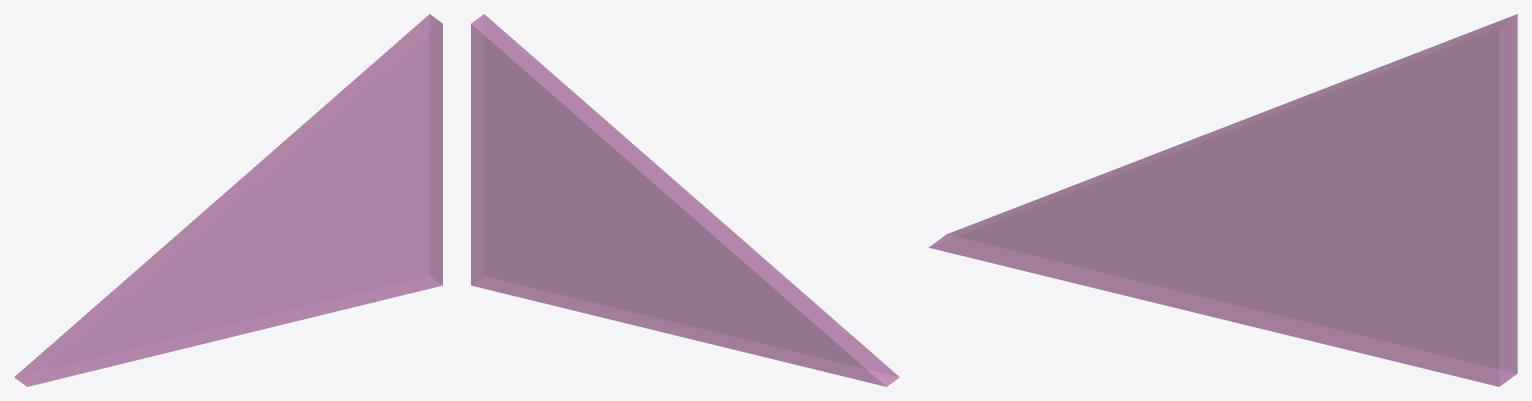
File: SM_Bld_Base_Stairwell_Wall_01_Collision.fbx
3 renders of one model, left to right at view 1: azimuth 30°, elevation 25°; view 2: azimuth 150°, elevation 25°; view 3: azimuth 330°, elevation 25°, orthographic. The views are drawn at different scales.
Parts seen in each view (by area): view 1: SM_Bld_Base_Stairwell_Wall_01_Collision; view 2: SM_Bld_Base_Stairwell_Wall_01_Collision; view 3: SM_Bld_Base_Stairwell_Wall_01_Collision.
Part boxes in pixels (x1=…): SM_Bld_Base_Stairwell_Wall_01_Collision: x1=14, y1=14, x2=442, y2=386; SM_Bld_Base_Stairwell_Wall_01_Collision: x1=471, y1=14, x2=899, y2=386; SM_Bld_Base_Stairwell_Wall_01_Collision: x1=929, y1=14, x2=1517, y2=386.
Bounding box in the file's own units: 514 × 309 × 28.34.
